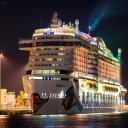cruises: (17, 7, 128, 116)
